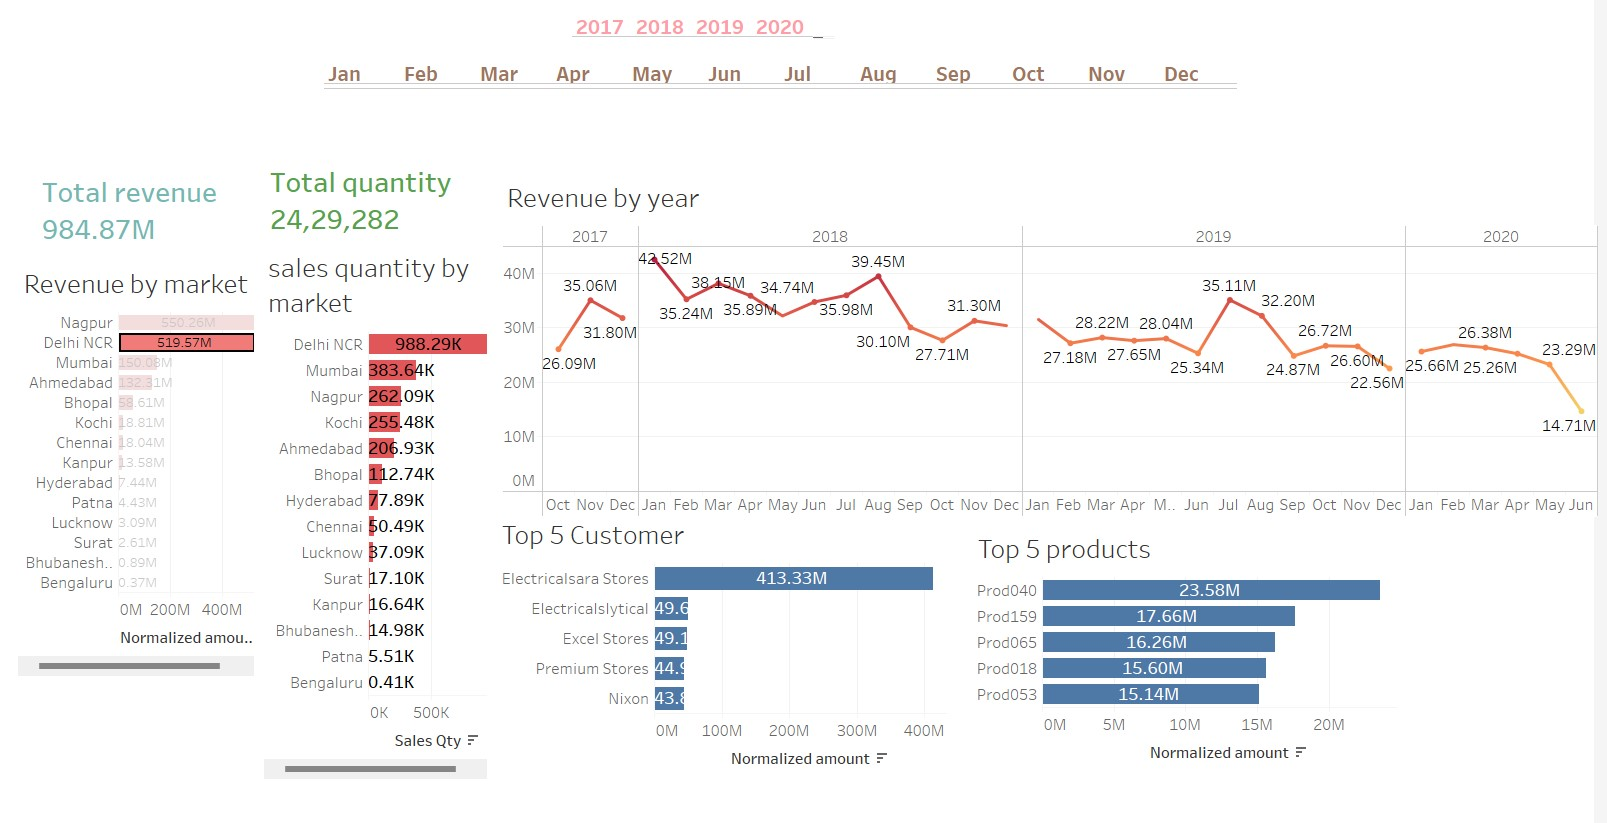

This screenshot's page, from the dashboard's own definition file:
{"tool":"tableau","page":{"name":"Revenue Analysis Dashboard","canvas":[1600,900],"ordinal":1},"visuals":[{"type":"worksheet","title":"year","mark":"Automatic","cols":["cy_date"],"box":[578.1,12,325.3,39]},{"type":"worksheet","title":"Month","mark":"Automatic","cols":["cy_date"],"box":[329.6,59,949.3,57]},{"type":"worksheet","title":"quantity","mark":"Automatic","box":[272,159,219,102]},{"type":"worksheet","title":"Revenue","mark":"Automatic","box":[44,169,215,96]},{"type":"worksheet","title":"Revenue by year","mark":"Automatic","rows":["Calculation_960392679267672064"],"cols":["cy_date","cy_date"],"box":[509,187,1095,341]},{"type":"worksheet","title":"sales quantity by market","mark":"Automatic","rows":["markets_name"],"cols":["sales_qty"],"box":[270,257,223,538]},{"type":"worksheet","title":"Revenue by market","mark":"Automatic","rows":["markets_name"],"cols":["Calculation_960392679267672064"],"box":[24,273,236,432]},{"type":"worksheet","title":"Top 5 Customer","mark":"Automatic","rows":["custmer_name"],"cols":["Calculation_960392679267672064"],"box":[504,524,449,269]},{"type":"worksheet","title":"Top 5 products","mark":"Automatic","rows":["product_code (products)"],"cols":["Calculation_960392679267672064"],"box":[980,538,423,259]}]}

Visuals, with their boxes on the page's 1600x900 design canvas (x1, y1, x2, y2). These are canvas units, not pixel positions in the 1607x823 screenshot, which may show the page scaled, cropped or inside an application window:
"year" worksheet: [578, 12, 903, 51]
"Month" worksheet: [330, 59, 1279, 116]
"quantity" worksheet: [272, 159, 491, 261]
"Revenue" worksheet: [44, 169, 259, 265]
"Revenue by year" worksheet: [509, 187, 1604, 528]
"sales quantity by market" worksheet: [270, 257, 493, 795]
"Revenue by market" worksheet: [24, 273, 260, 705]
"Top 5 Customer" worksheet: [504, 524, 953, 793]
"Top 5 products" worksheet: [980, 538, 1403, 797]
